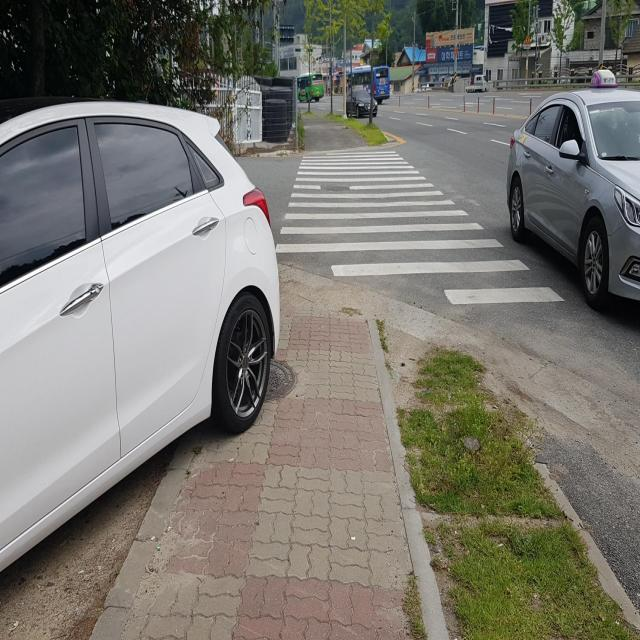횡단보도: (276, 150, 566, 308)
